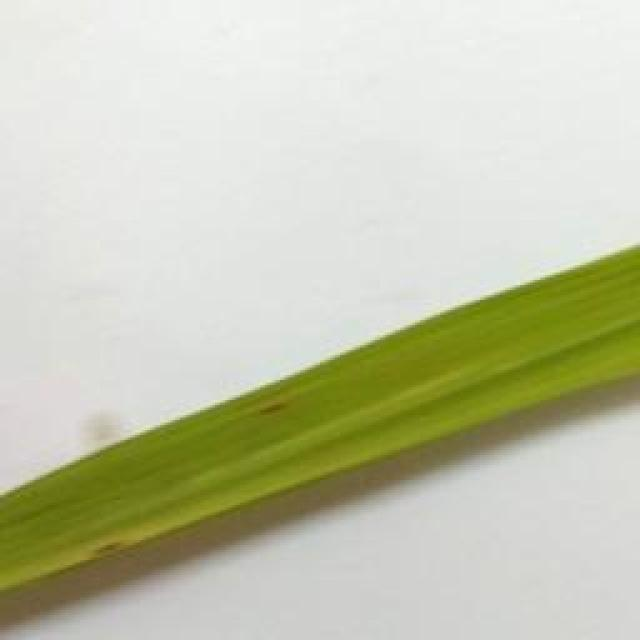Brown_Spot: (94, 525, 131, 564), (257, 396, 296, 432)
